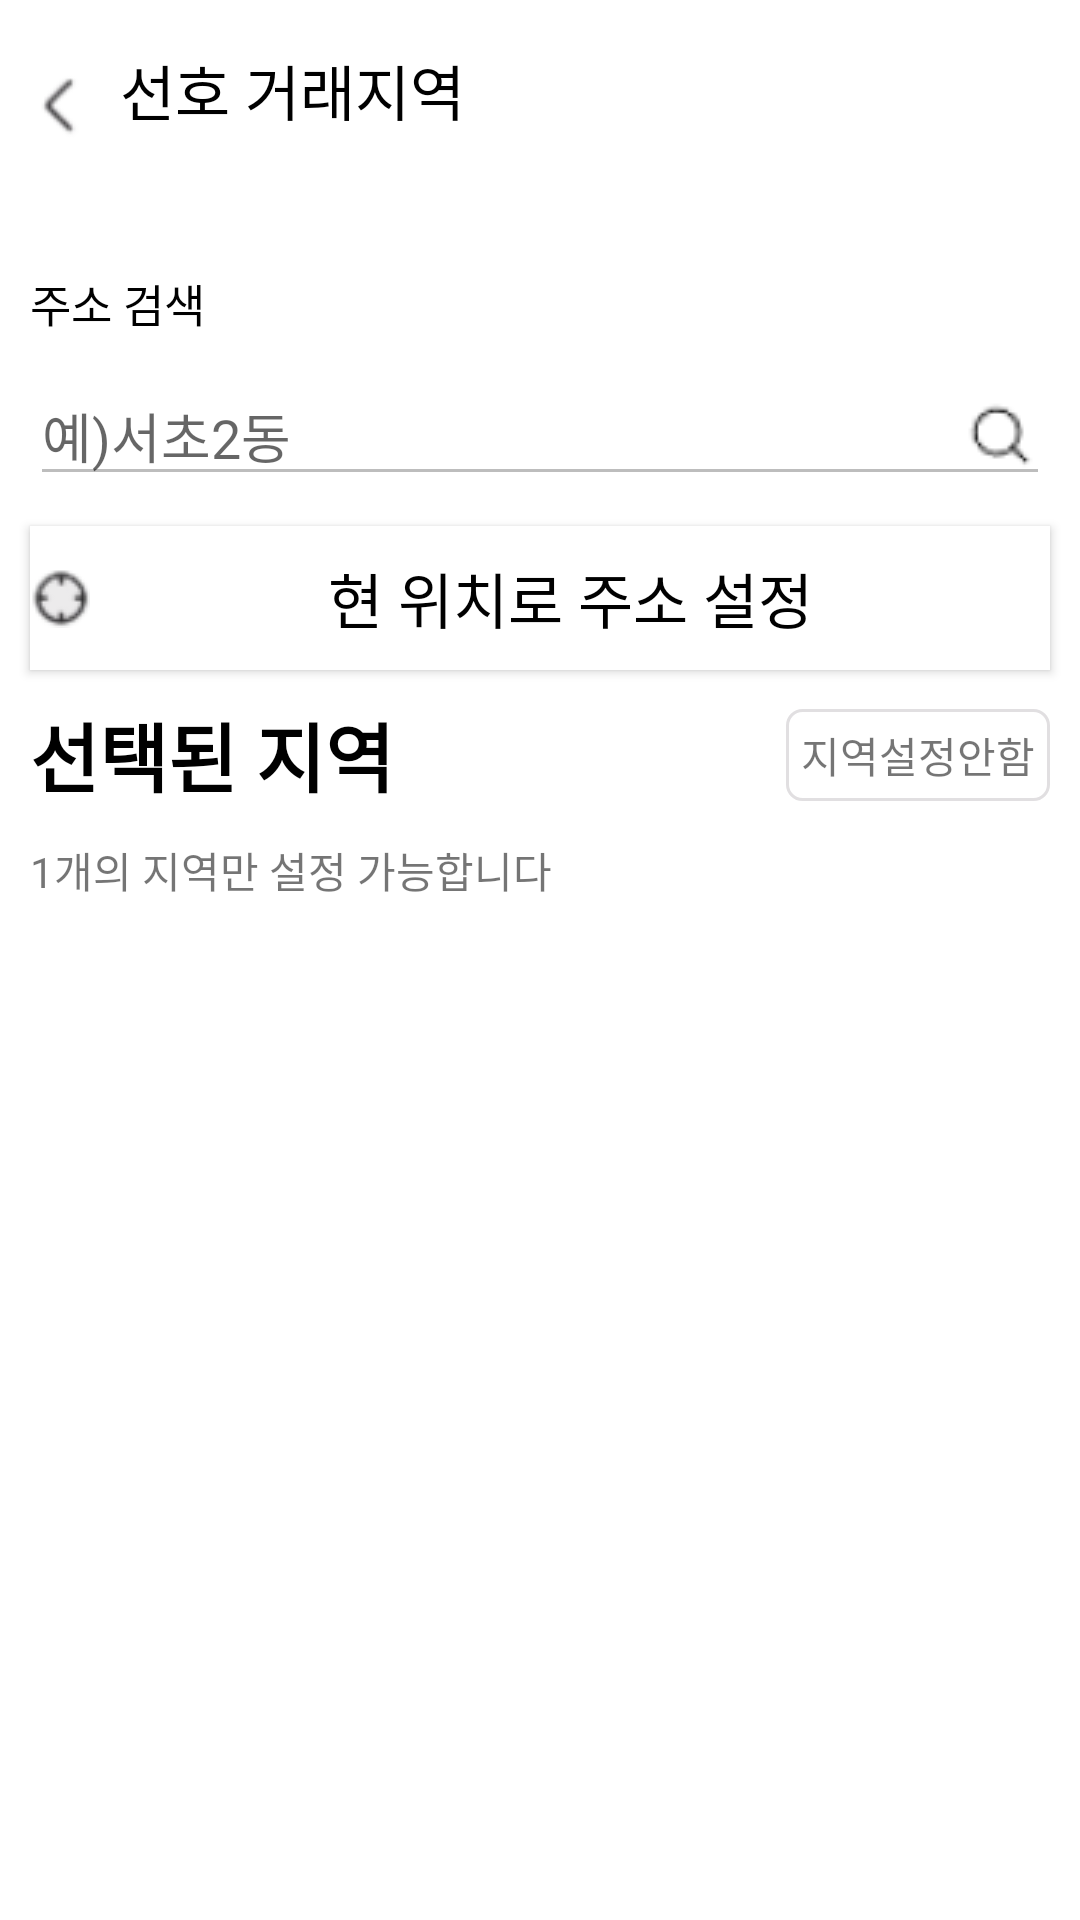

Icons on this 1080×1920 Android screen, each with its box as (x1, y1, x2, y2):
back arrow: (44, 79, 73, 132)
